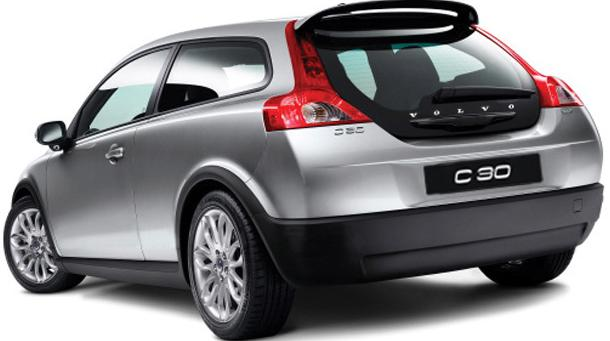back_view: (508, 176, 510, 178)
backlight: (266, 16, 359, 137)
side_glass: (69, 29, 267, 144)
